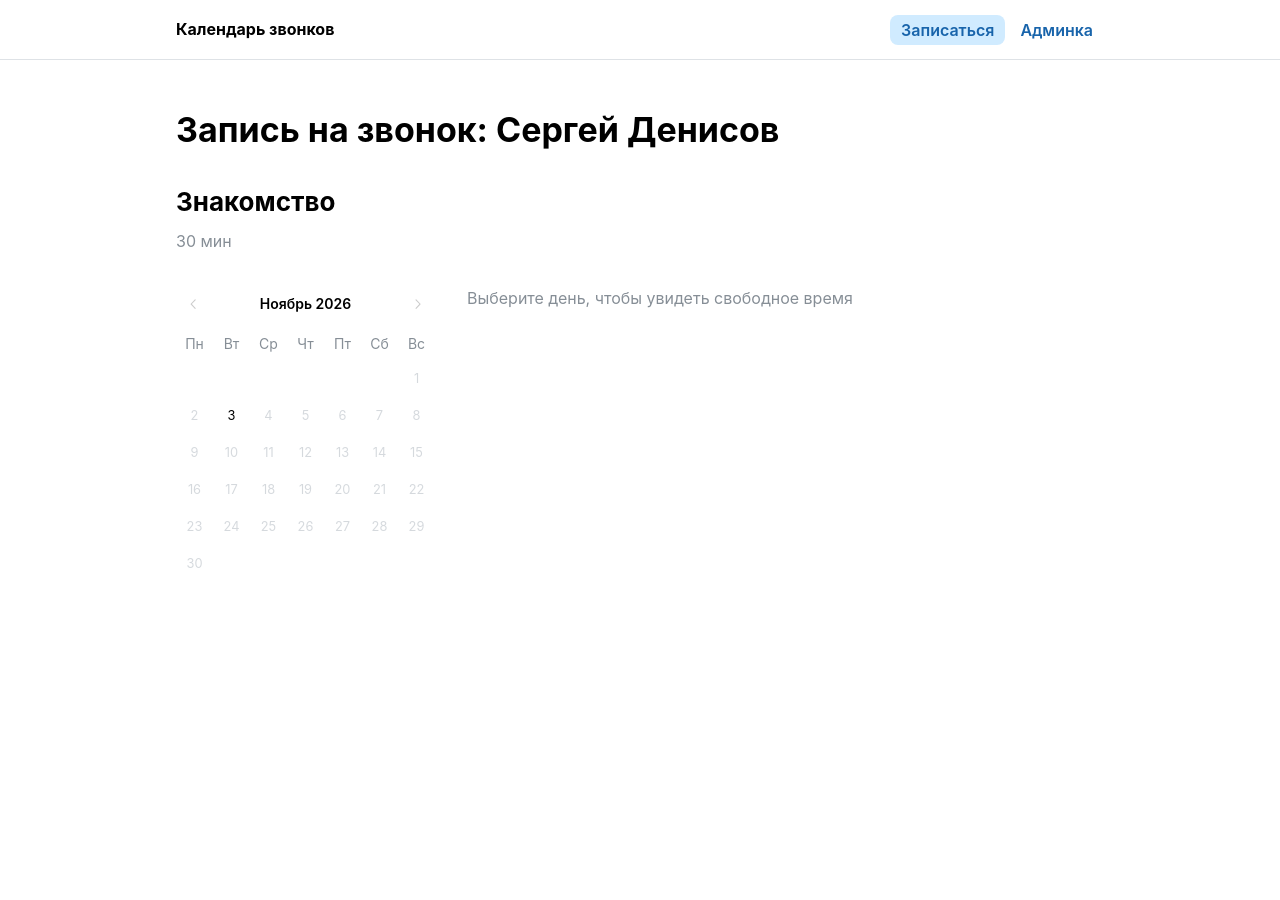
Scenario: a Slot that is no longer free › on 409 SLOT_UNAVAILABLE shows the message and the Free Slots loaded again
Click the button named "3 ноября 2026".
click(232, 416)  # box x1=214 y1=398 x2=250 y2=434
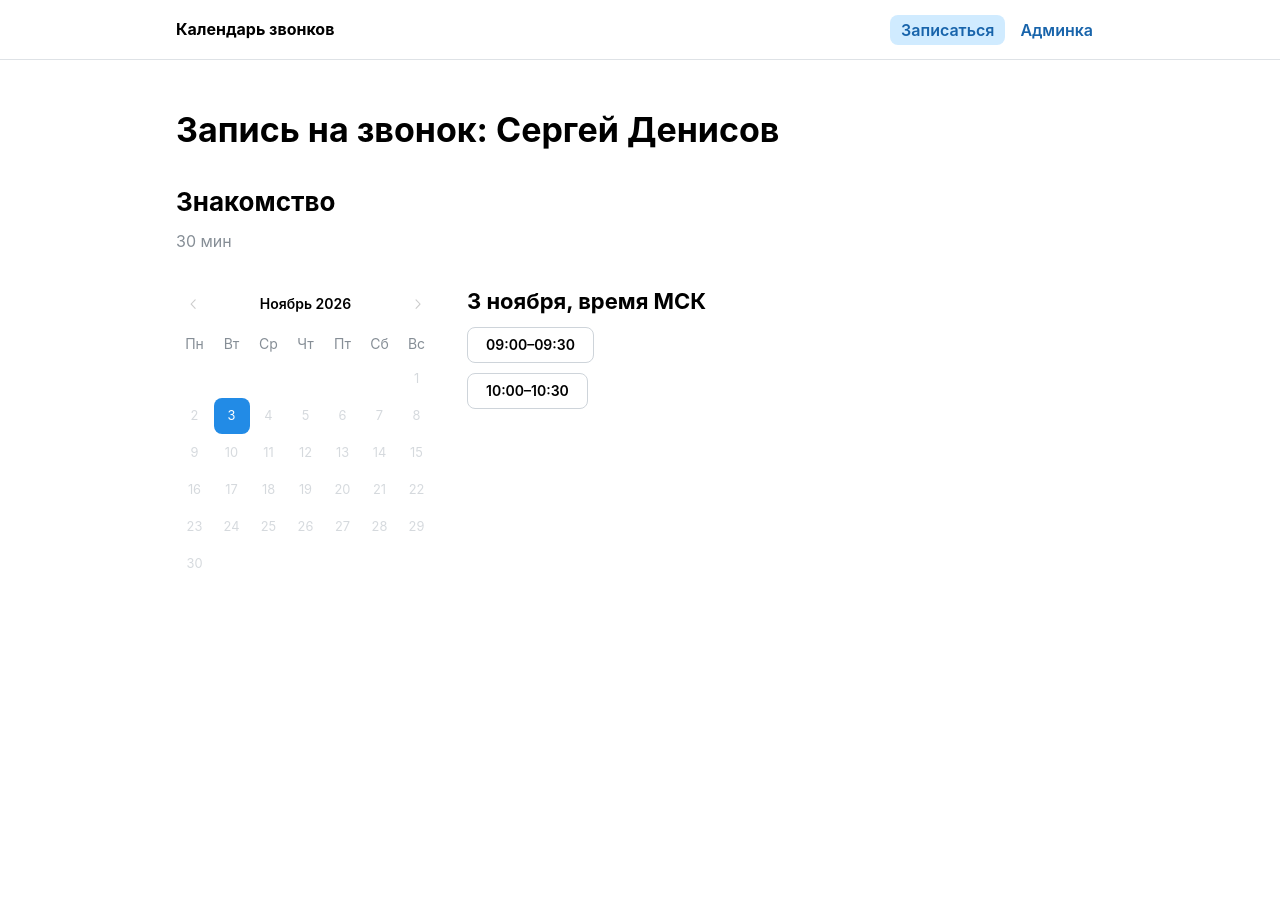
Click the button "10:00–10:30".
click(527, 391)  # box x1=467 y1=373 x2=588 y2=409
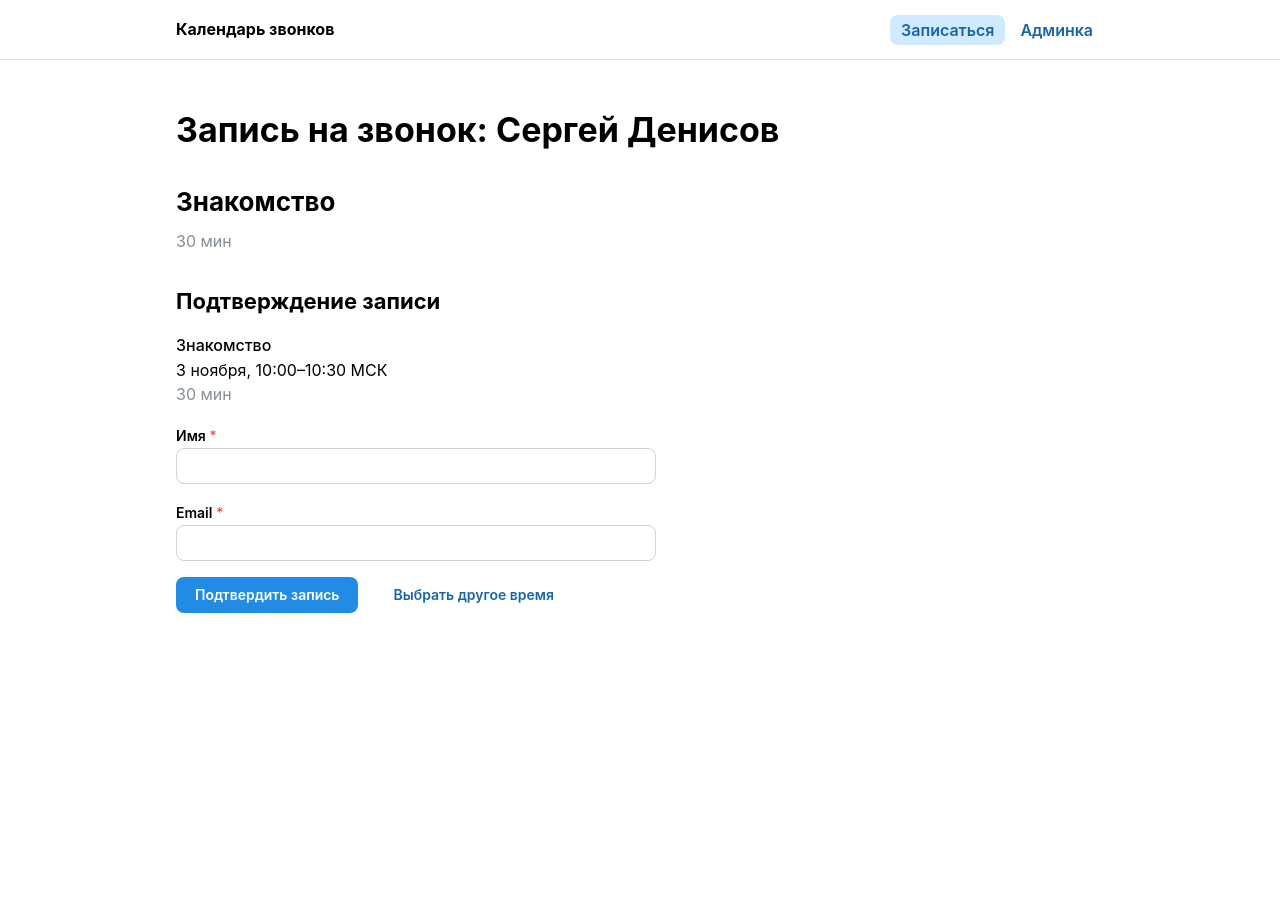
Type "Анна Петрова" into the field labelled "Имя".
click(416, 466); type("Анна Петрова")  # box x1=176 y1=448 x2=656 y2=484
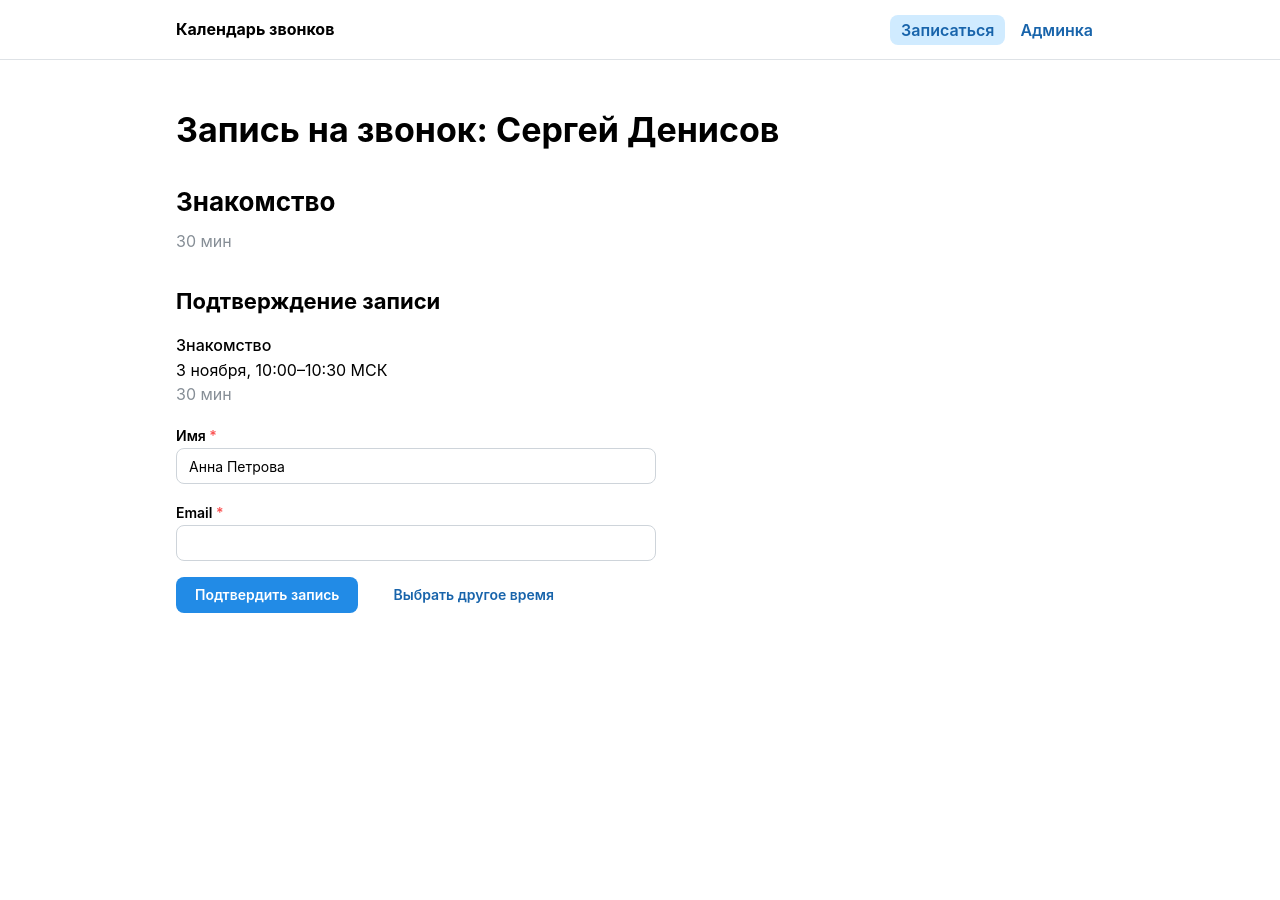
Type "anna@example.com" into the field labelled "Email".
click(416, 543); type("anna@example.com")  # box x1=176 y1=525 x2=656 y2=561
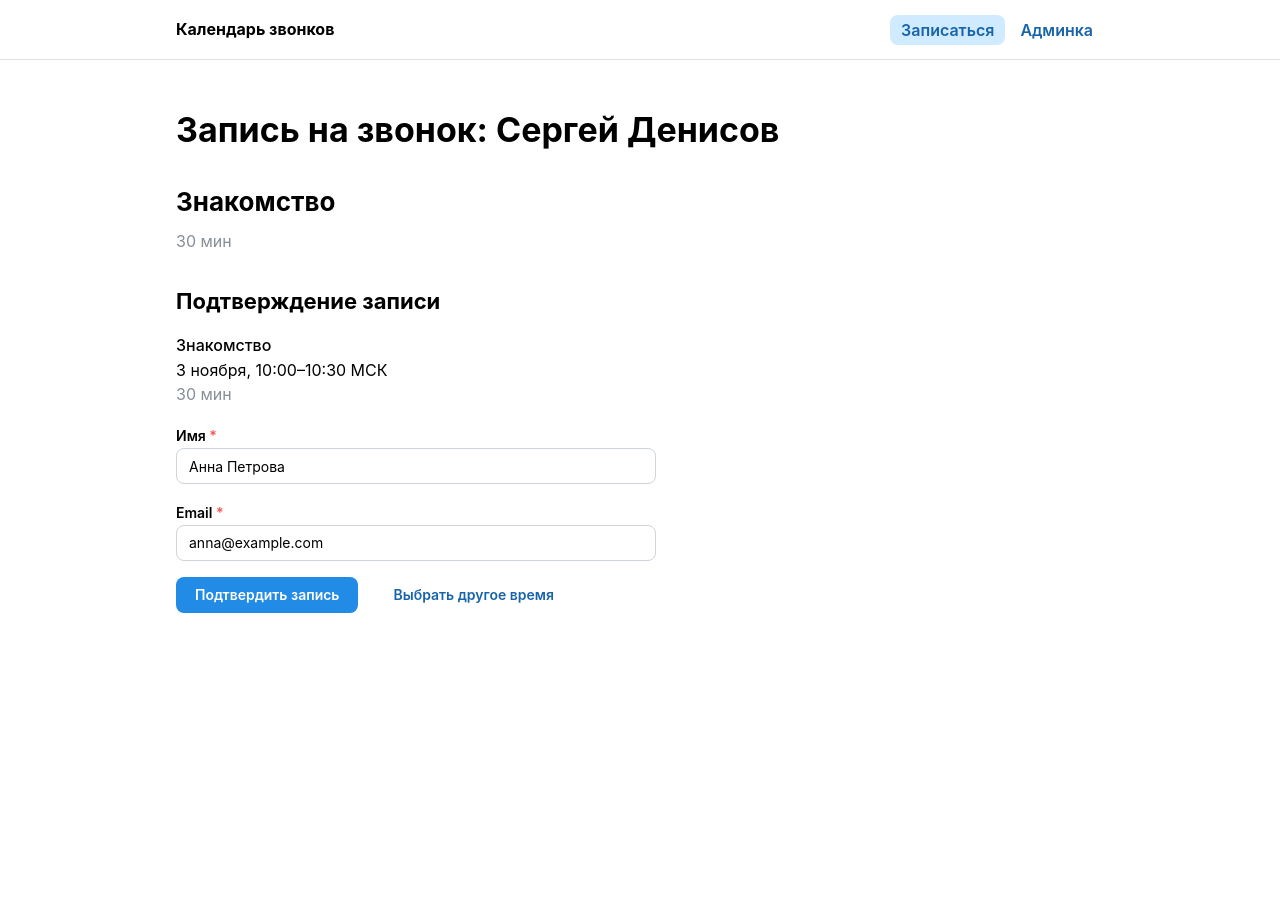
Click the button "Подтвердить запись".
click(267, 595)  # box x1=176 y1=577 x2=358 y2=613
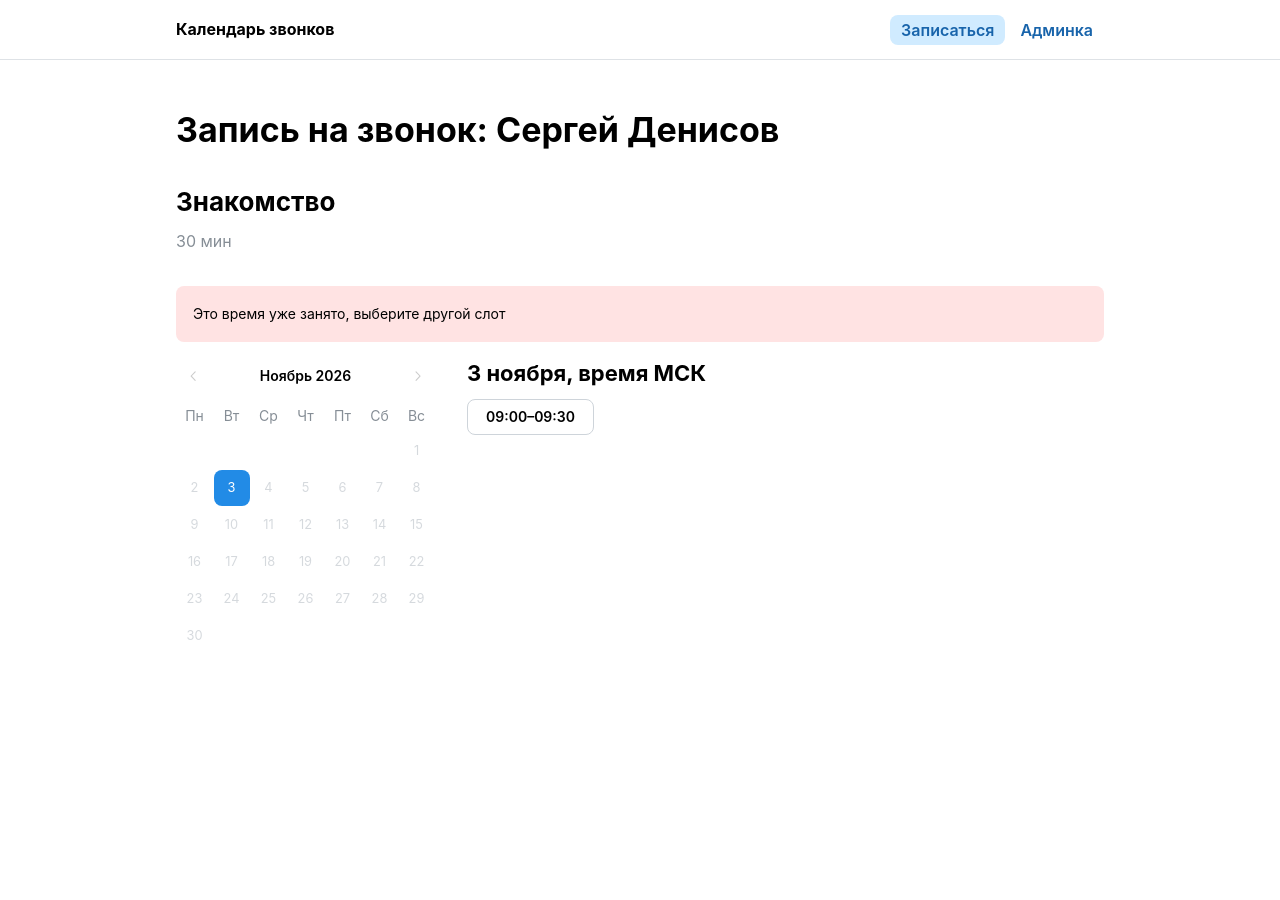
Expected: the message reads "Это время уже занято, выберите другой слот", x1=193 y1=305 x2=506 y2=322
Expected: the button "Подтвердить запись" is gone
